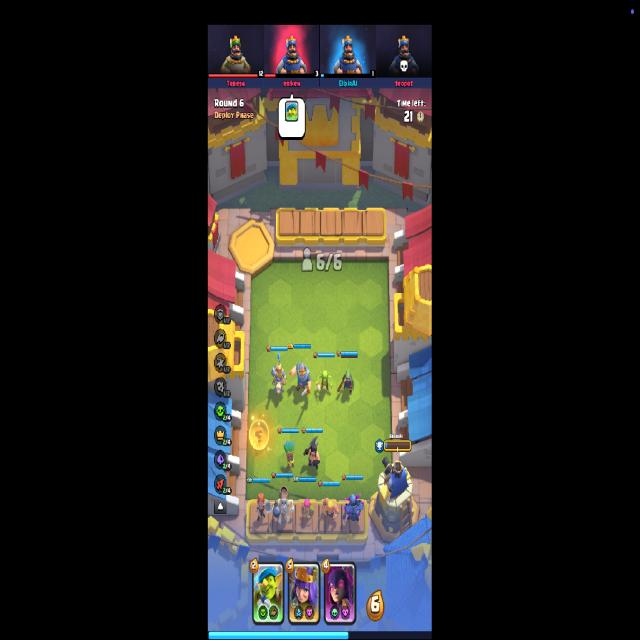archer: (301, 498, 315, 522)
bandit: (337, 370, 355, 398)
barbarian: (316, 498, 340, 525)
card_archer_queen: (288, 560, 321, 626)
card_spear_goblin: (252, 560, 285, 626)
card_witch: (324, 562, 356, 624)
dart_goblin: (283, 439, 297, 473)
executioner: (303, 436, 321, 472)
giant_skeleton: (273, 487, 295, 524)
goblin: (316, 369, 334, 396)
knight: (290, 362, 312, 398)
pekka: (343, 492, 364, 524)
prince: (272, 353, 287, 397)
valkyrie: (256, 491, 272, 525)
